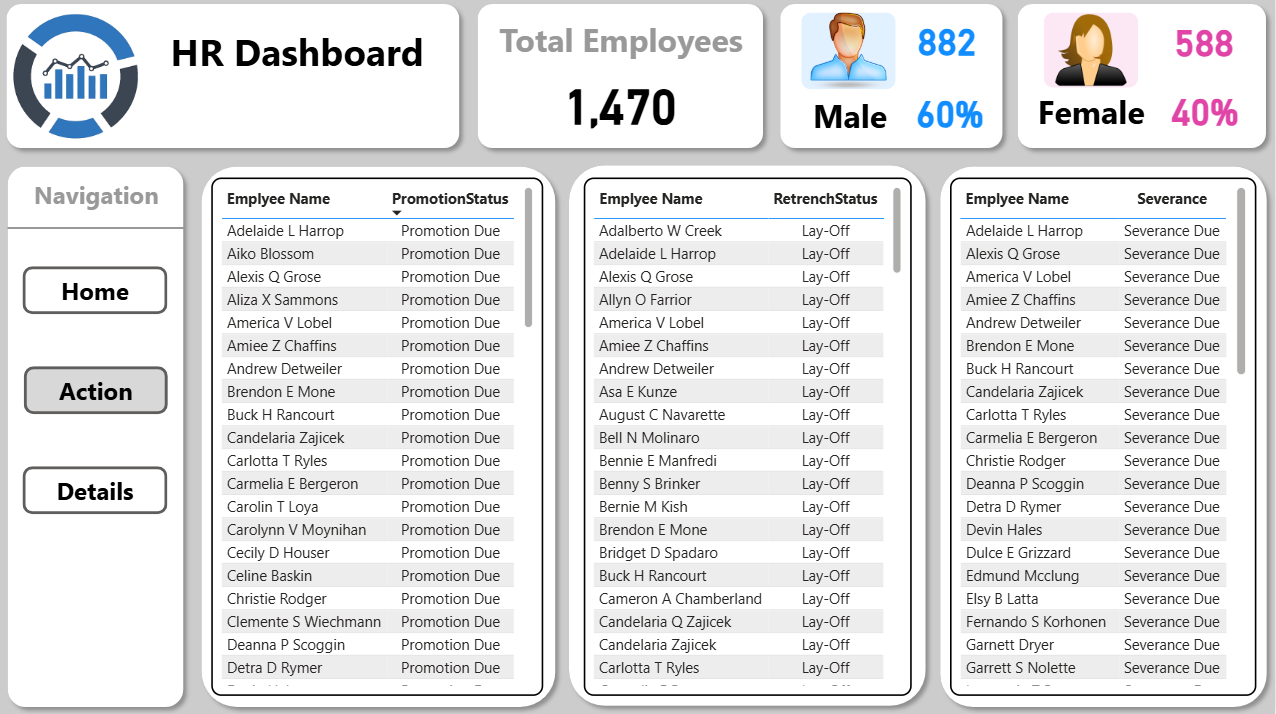

Layout of this report page (visuals, bound fields, positions):
{"tool":"powerbi","page":{"name":"Action","canvas":[1280,720],"ordinal":1},"visuals":[{"type":"shape","box":[4.1,161.9,193.5,558.5],"z":0},{"type":"shape","box":[2.7,0,470.7,161.9],"z":1000},{"type":"textbox","box":[164.7,26.1,274.4,60.4],"z":2000},{"type":"image","box":[17.8,12.3,126.2,137.2],"z":3000},{"type":"shape","box":[473.4,0,303.3,161.9],"z":4000},{"type":"textbox","box":[495.4,17.8,262.1,52.1],"z":5000},{"type":"card","fields":{"Values":["DAX Measures.# Employees"]},"box":[558.5,75.5,133.1,63.1],"z":6000},{"type":"shape","box":[776.7,0,240.1,161.9],"z":7000},{"type":"textbox","box":[812.4,93.3,85.1,52.1],"z":8000},{"type":"card","fields":{"Values":["DAX Measures.# Males"]},"box":[907,19.2,89.2,50.8],"z":9000},{"type":"card","fields":{"Values":["DAX Measures.% Males"]},"box":[913.9,93.3,82.3,45.3],"z":10000},{"type":"shape","box":[1014.1,0,266.2,161.9],"z":11000},{"type":"textbox","box":[1031.9,90.6,127.6,52.1],"z":12000},{"type":"card","fields":{"Values":["DAX Measures.% Females"]},"box":[1160.9,86.4,97.4,56.3],"z":13000},{"type":"card","fields":{"Values":["DAX Measures.# Females"]},"box":[1159.5,17.8,97.4,56.3],"z":14000},{"type":"image","box":[806.9,17.8,94.7,76.8],"z":15000},{"type":"image","box":[1048.4,17.8,94.7,75.5],"z":16000},{"type":"textbox","box":[26,179,150,42],"z":17000},{"type":"shape","box":[197.6,161.9,371.9,558.5],"z":18000},{"type":"tableEx","fields":{"Values":["HR Employee Data.Emplyee name","HR Analytics Data.PromotionStatus"]},"box":[216.8,182.5,332.1,518.7],"z":19000},{"type":"shape","box":[565.4,161.5,374.6,558.5],"z":20000},{"type":"tableEx","fields":{"Values":["HR Employee Data.Emplyee Name","HR Analytics Data.RetrenchmentStatus"]},"box":[588.7,182.5,328,518.7],"z":21000},{"type":"shape","box":[935.9,161.9,344.4,558.5],"z":22000},{"type":"tableEx","fields":{"Values":["HR Employee Data.Emplyee Name","HR Analytics Data.SeveranceBenifitStatus"]},"box":[955.1,182.5,306,518.7],"z":23000},{"type":"shape","box":[12,222,177,21],"z":23001},{"type":"actionButton","box":[28,271,145,48],"z":23002},{"type":"actionButton","box":[28.8,371,144.1,48],"z":23003},{"type":"actionButton","box":[28,471,145,48],"z":23004}]}

Visuals, with their boxes in screenshot pixels (x1, y1, x2, y2), scaled from the page's 1280x720 canvas onto the 1276x714 screenshot:
shape: <box>4,161,197,713</box>
shape: <box>3,0,472,161</box>
textbox: <box>164,26,438,86</box>
image: <box>18,12,144,148</box>
shape: <box>472,0,774,161</box>
textbox: <box>494,18,755,69</box>
card - DAX Measures.# Employees: <box>557,75,689,137</box>
shape: <box>774,0,1014,161</box>
textbox: <box>810,93,895,144</box>
card - DAX Measures.# Males: <box>904,19,993,69</box>
card - DAX Measures.% Males: <box>911,93,993,137</box>
shape: <box>1011,0,1275,161</box>
textbox: <box>1029,90,1156,142</box>
card - DAX Measures.% Females: <box>1157,86,1254,142</box>
card - DAX Measures.# Females: <box>1156,18,1253,73</box>
image: <box>804,18,899,94</box>
image: <box>1045,18,1140,93</box>
textbox: <box>26,178,175,219</box>
shape: <box>197,161,568,713</box>
tableEx - HR Employee Data.Emplyee name x HR Analytics Data.PromotionStatus: <box>216,181,547,695</box>
shape: <box>564,160,937,713</box>
tableEx - HR Employee Data.Emplyee Name x HR Analytics Data.RetrenchmentStatus: <box>587,181,914,695</box>
shape: <box>933,161,1275,713</box>
tableEx - HR Employee Data.Emplyee Name x HR Analytics Data.SeveranceBenifitStatus: <box>952,181,1257,695</box>
shape: <box>12,220,188,241</box>
actionButton: <box>28,269,172,316</box>
actionButton: <box>29,368,172,416</box>
actionButton: <box>28,467,172,515</box>
